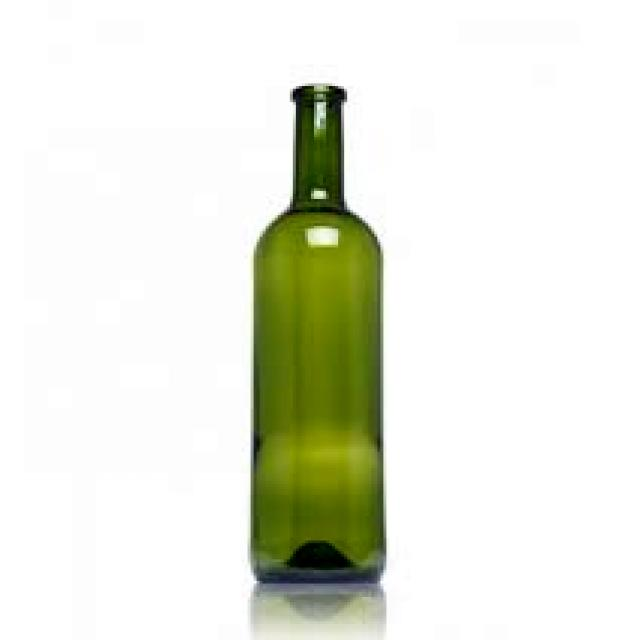Glass: (247, 81, 398, 588)
